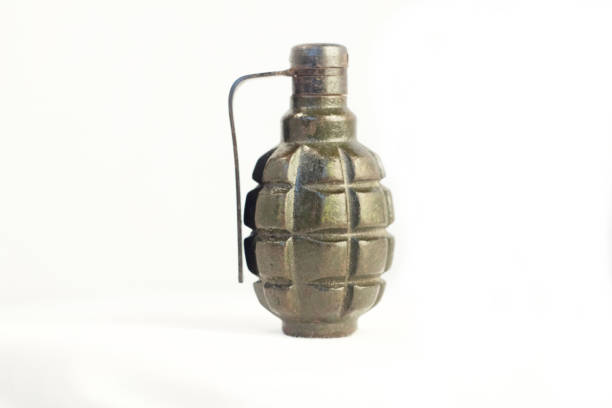e1: (224, 42, 397, 351)
